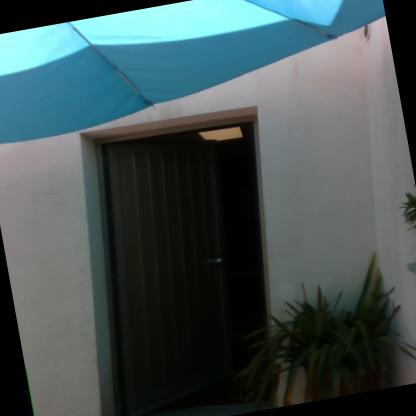semi: (66, 86, 314, 415)
